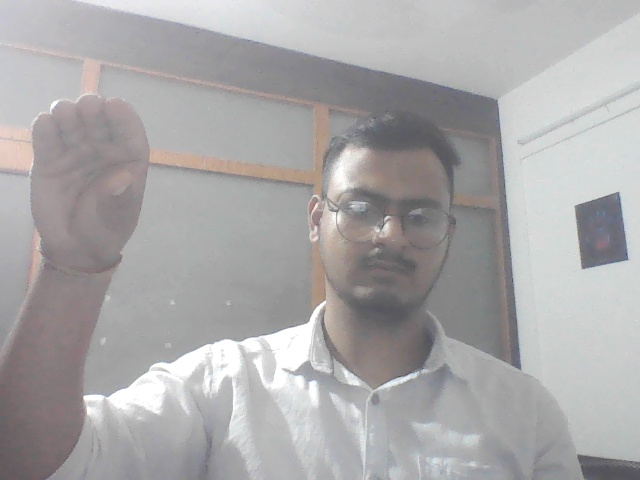NO: (20, 89, 153, 289)
